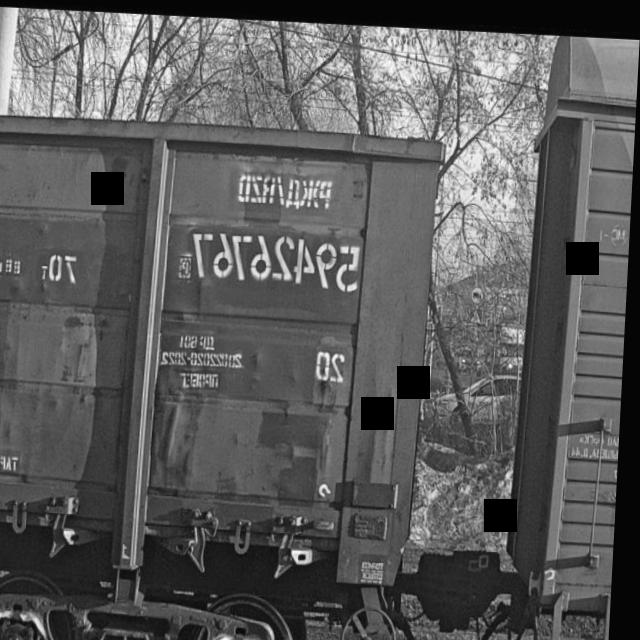boxcar: (497, 28, 640, 640)
gondola: (0, 74, 455, 640)
